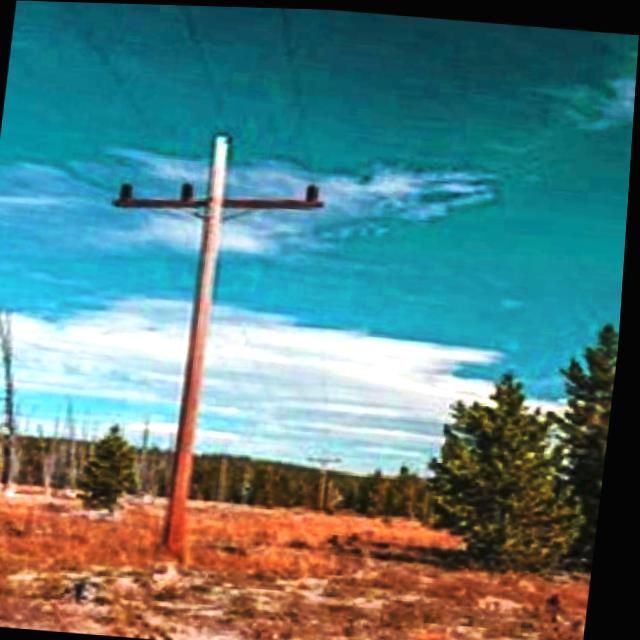poles: (81, 125, 332, 564)
